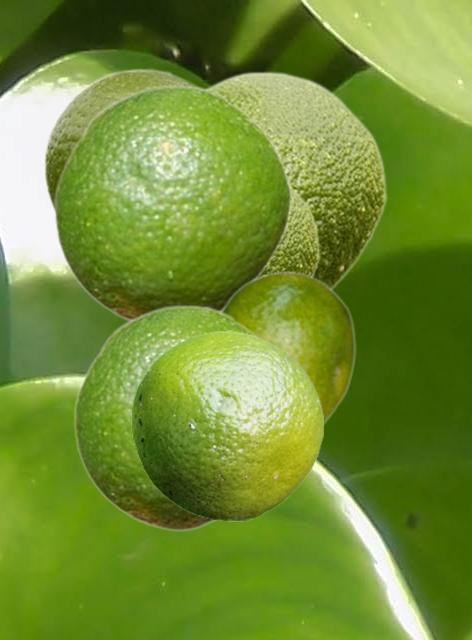calamansi: (53, 84, 291, 320), (73, 304, 257, 531), (205, 70, 386, 289), (131, 330, 322, 520), (43, 66, 195, 210), (219, 270, 355, 426), (264, 184, 319, 275)
